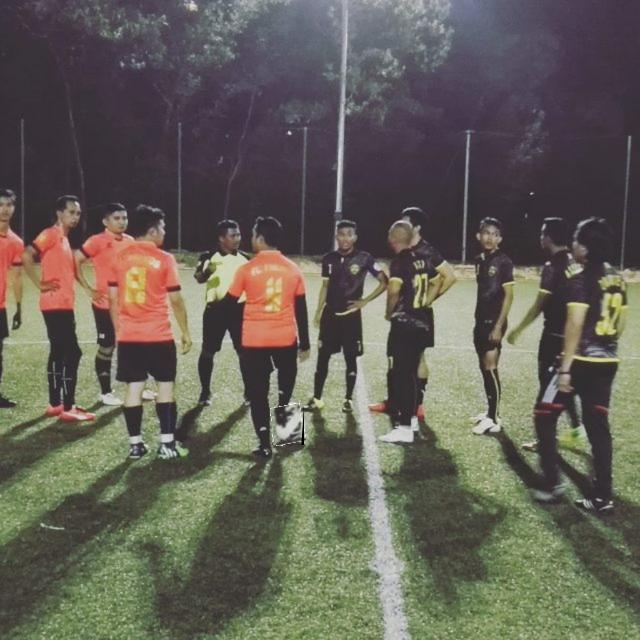Football: (272, 405, 304, 445)
